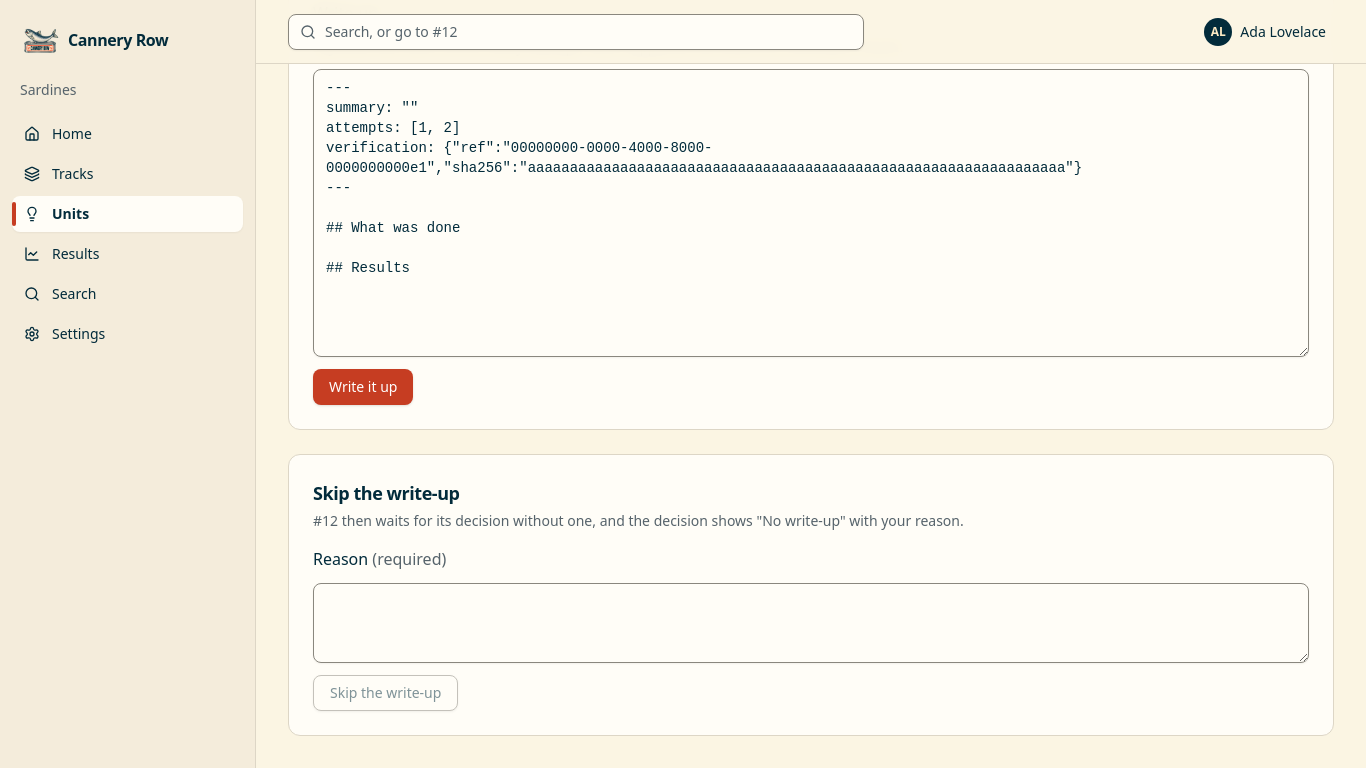
writing a unit up › starts from the front matter the write-up must state, and records it in one action
The width and height of the screenshot is (1366, 768).
(page scrolled)
Click the button "Write it up" at x=363, y=387, box [313,369,413,405]
(page scrolled)
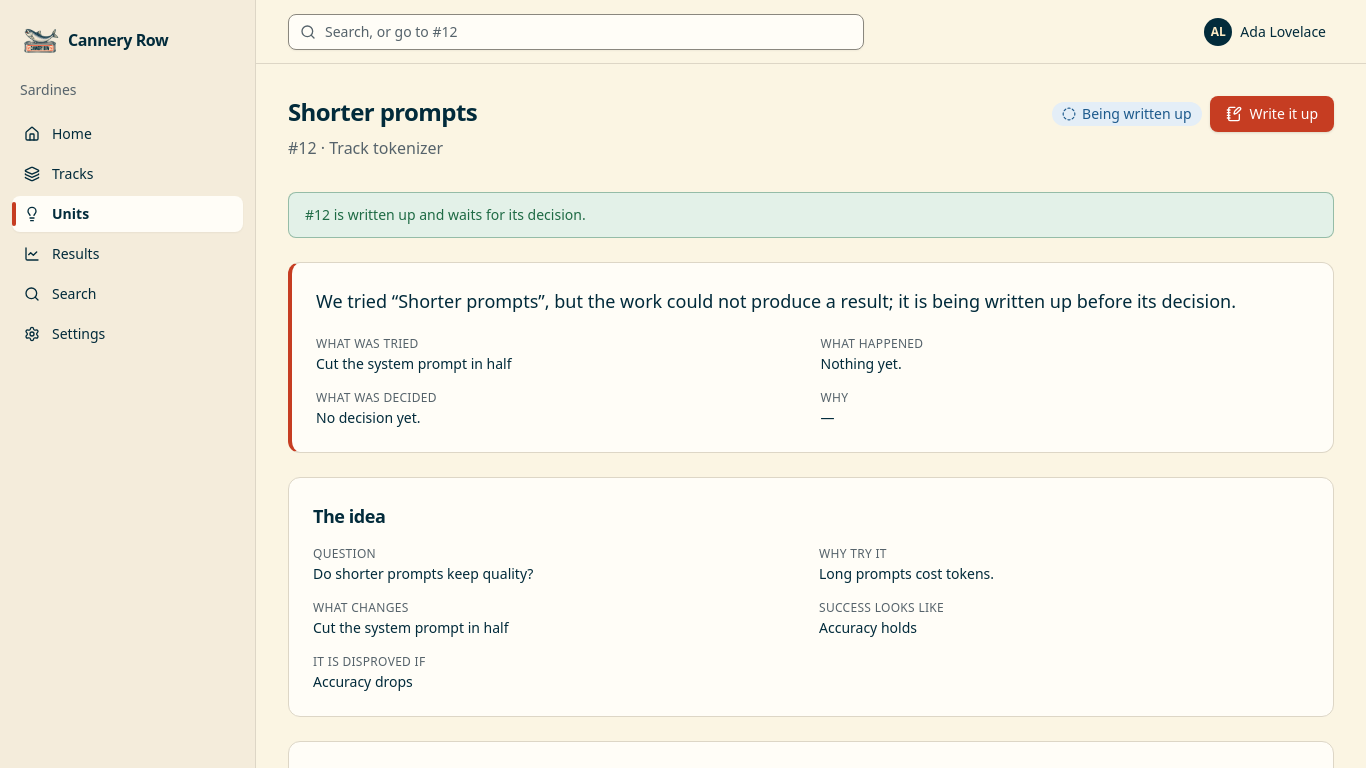
Check: the text "#12 is written up and waits for its decision." is shown, box [288,192,1334,238]
